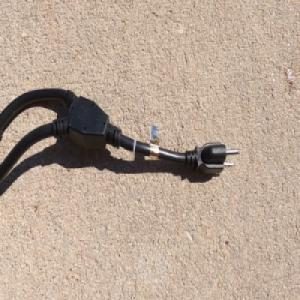Wire: (0, 86, 240, 203)
